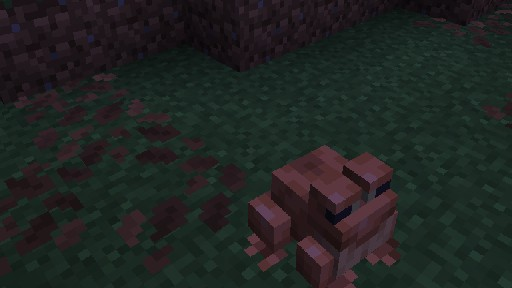frog: (243, 144, 402, 288)
